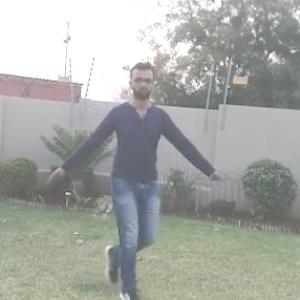land: (51, 61, 220, 288)
